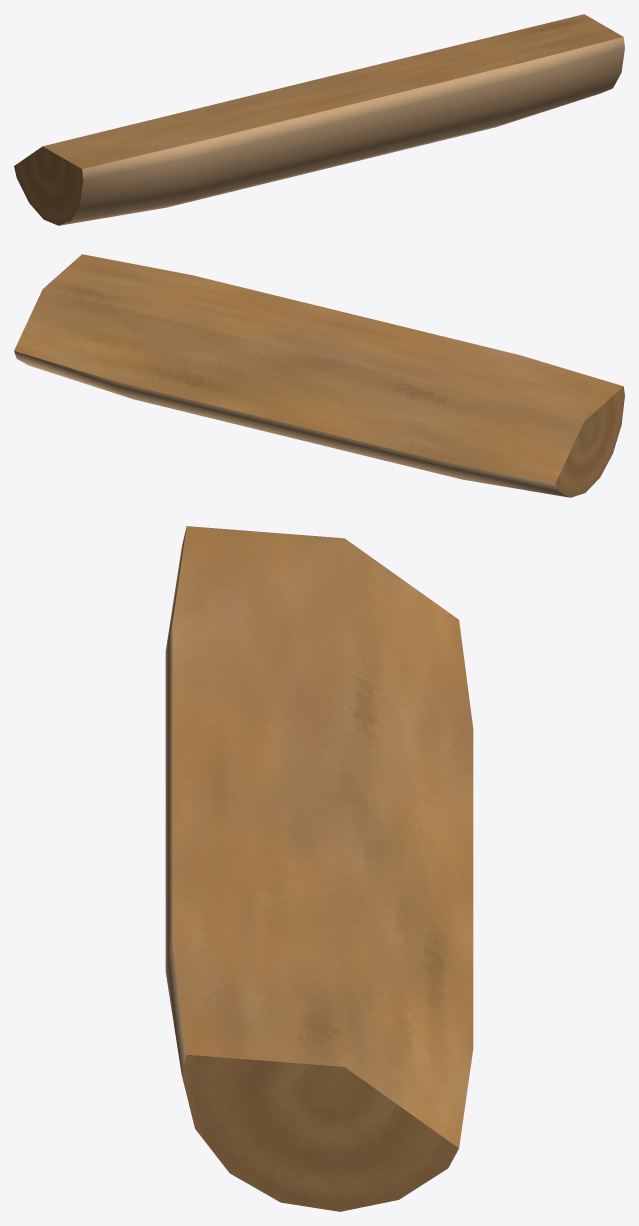
The model's file is Timber_Cut_3.fbx.
3 renders of one model, top to bottom at view 1: azimuth 30°, elevation 25°; view 2: azimuth 150°, elevation 25°; view 3: azimuth 270°, elevation 25°, orthographic. The views are drawn at different scales.
Visible parts, largest first — view 1: Cylinder.080; view 2: Cylinder.080; view 3: Cylinder.080.
Part boxes in pixels (x1=…): Cylinder.080: x1=14, y1=14, x2=624, y2=225; Cylinder.080: x1=14, y1=254, x2=624, y2=497; Cylinder.080: x1=165, y1=526, x2=473, y2=1211.
Bounding box in the file's own units: 81.05 × 12.62 × 19.92.
